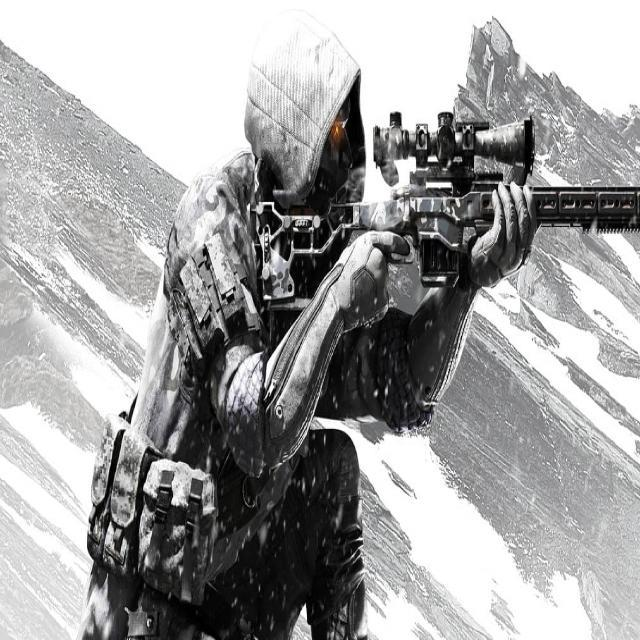scope: (375, 104, 535, 178)
sniper rifle: (260, 106, 640, 345)
